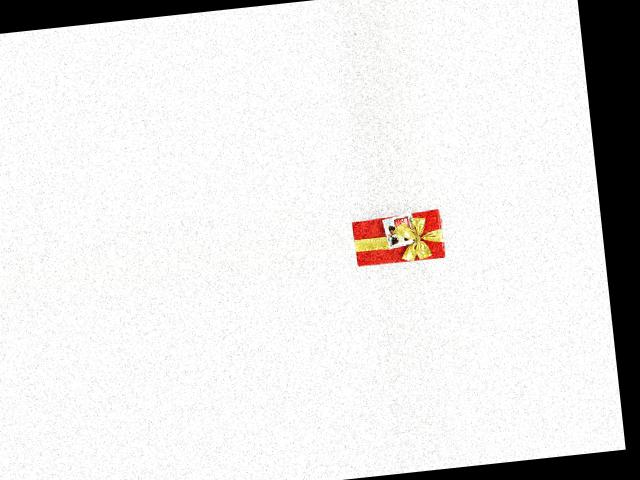chocolate: (352, 209, 449, 271)
